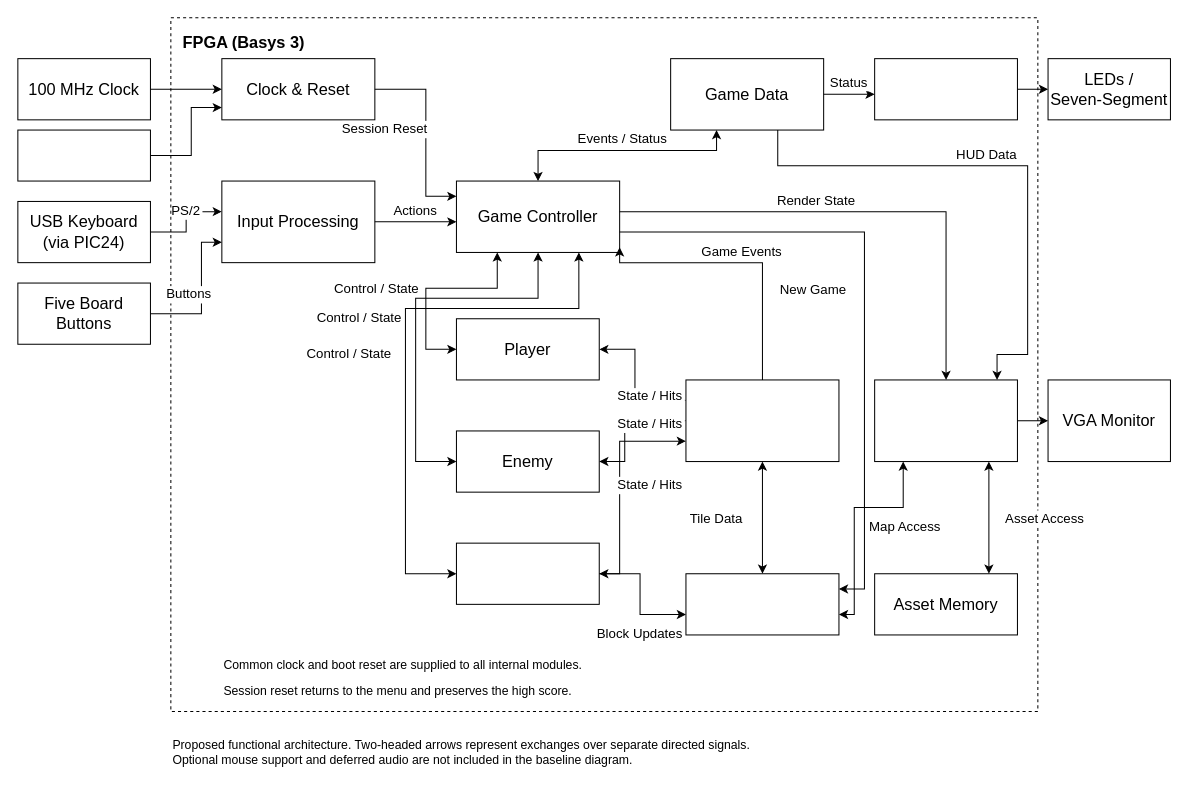
This 1188x791 diagram has some shape labels left out. The shapes that lost their labels are listed below. From the top down, each one's centre as x and y in pixels, then its label:
At point (945, 89): "Status Display".
At point (83, 155): "Reset Switch sw[0]".
At point (762, 420): "Collision Detection".
At point (945, 420): "Video Generator".
At point (527, 573): "Items / Blocks".
At point (762, 604): "Level Memory".
